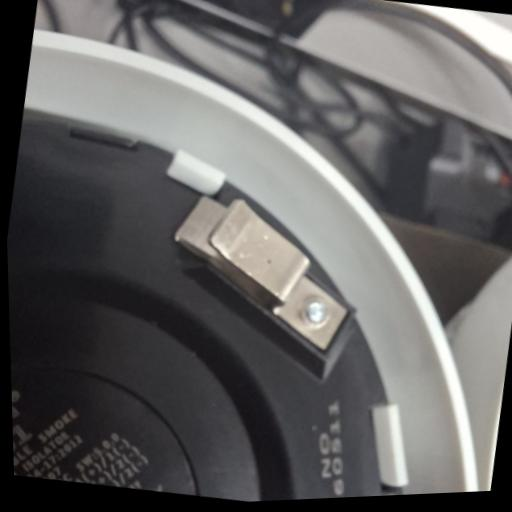yayli: (155, 180, 368, 363)
